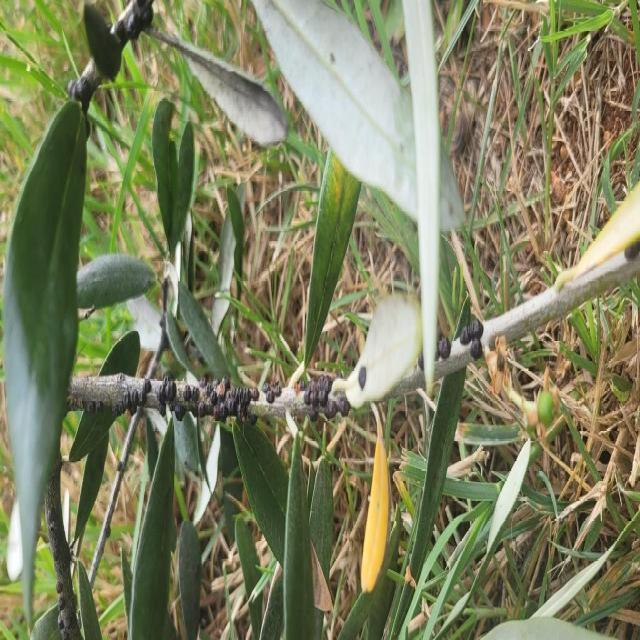BlackScale: (156, 376, 260, 424), (298, 373, 351, 419), (111, 0, 153, 48), (110, 378, 152, 419), (459, 319, 484, 359), (56, 578, 70, 639), (262, 383, 282, 404), (358, 366, 367, 392)
